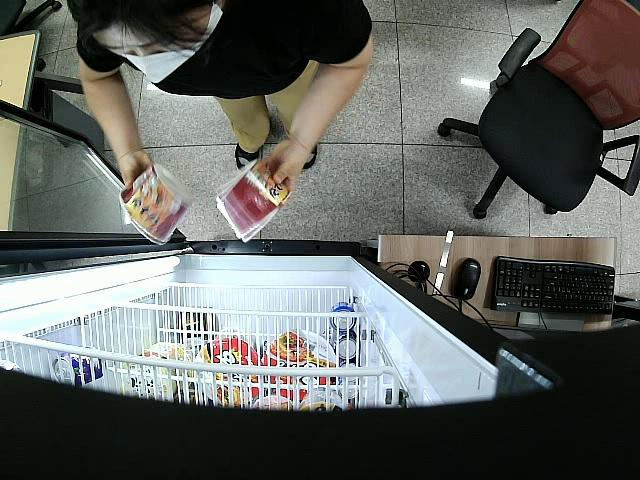00_hand: (265, 141, 310, 195), (117, 151, 153, 191)
05_nuguri_L: (117, 166, 191, 245), (217, 161, 289, 241)
